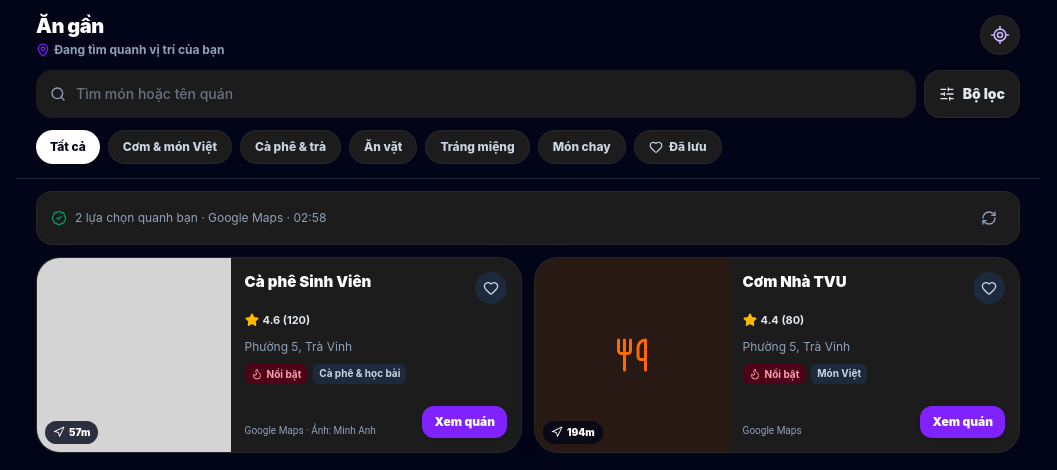
Test: FoodNearby › saves a place and can show only saved results
expect the heading "Cơm Nhà TVU" is shown: met, box x1=743 y1=272 x2=847 y2=291
Click the button named "Lưu Cà phê Sinh Viên": [491, 288] box x1=475 y1=272 x2=507 y2=304
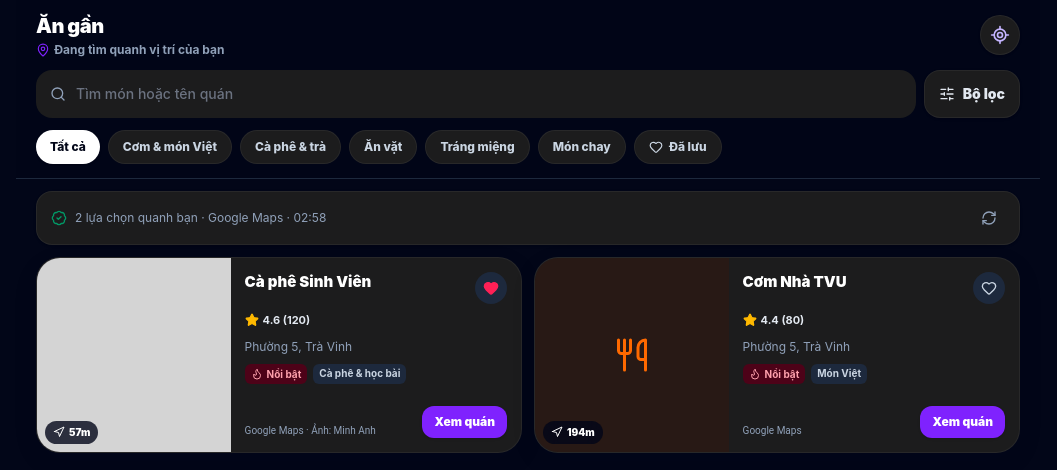
Click the button "Đã lưu": [678, 147] box x1=634 y1=130 x2=722 y2=164
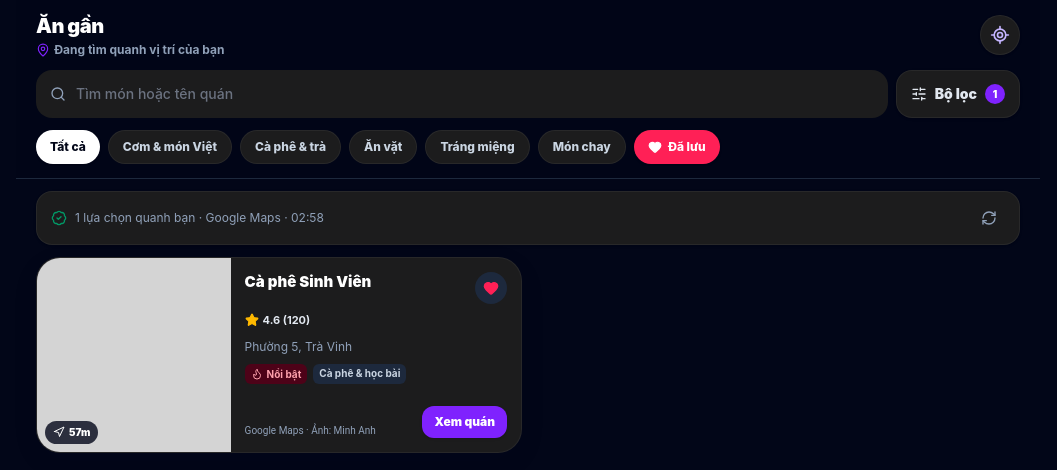
expect the heading "Cà phê Sinh Viên" is shown: met, box x1=245 y1=272 x2=371 y2=291
expect the button "Cơm Nhà TVU" is gone: met
